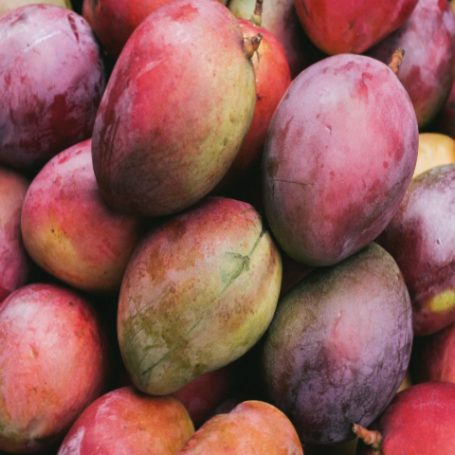mango: (71, 0, 274, 227), (260, 25, 424, 269), (95, 194, 302, 386), (254, 238, 422, 449)
